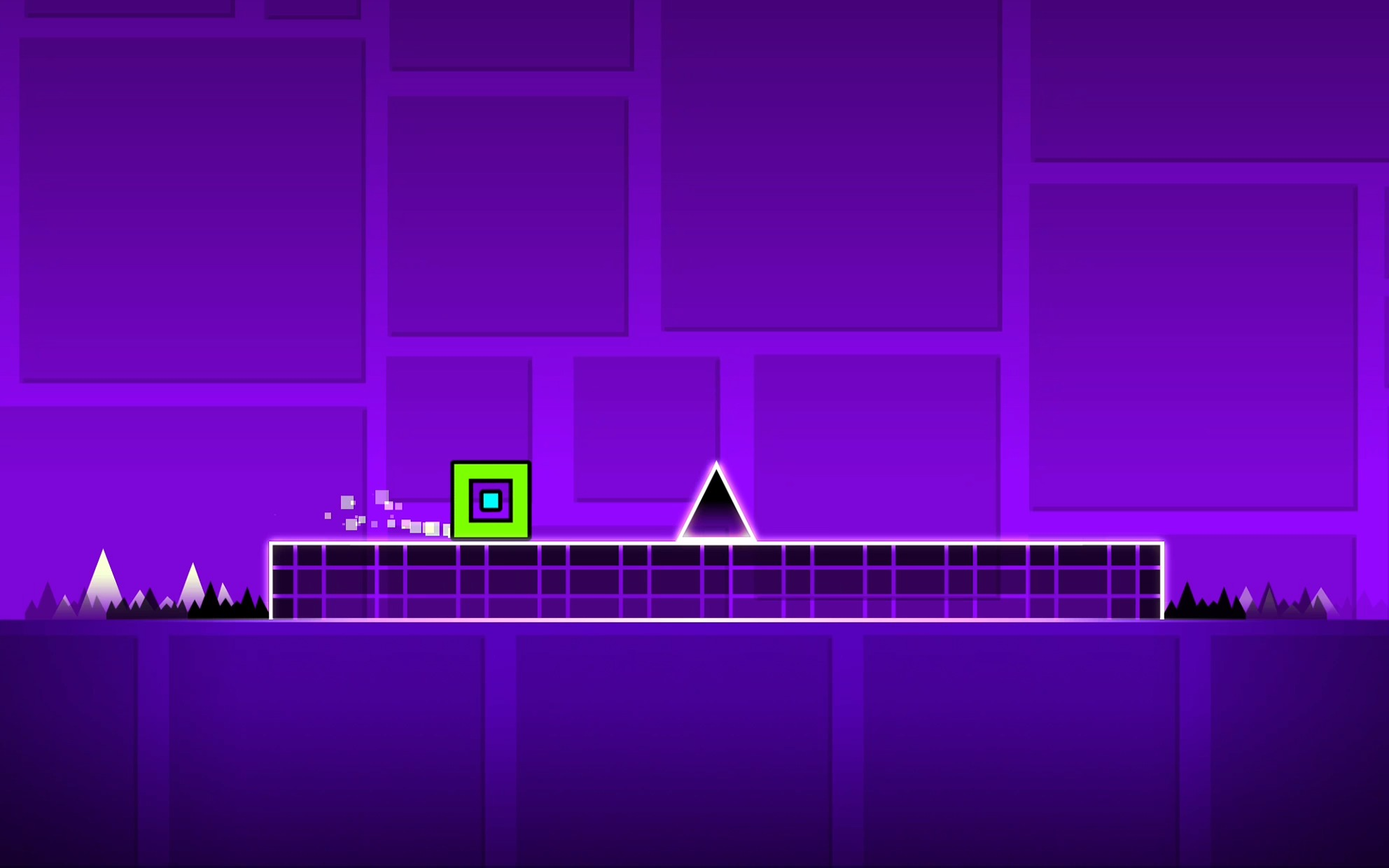Block2: (272, 540, 1162, 616)
Player: (449, 461, 530, 539)
Spike: (677, 463, 754, 539)
Spike3: (6, 582, 269, 622), (1162, 581, 1383, 621)
